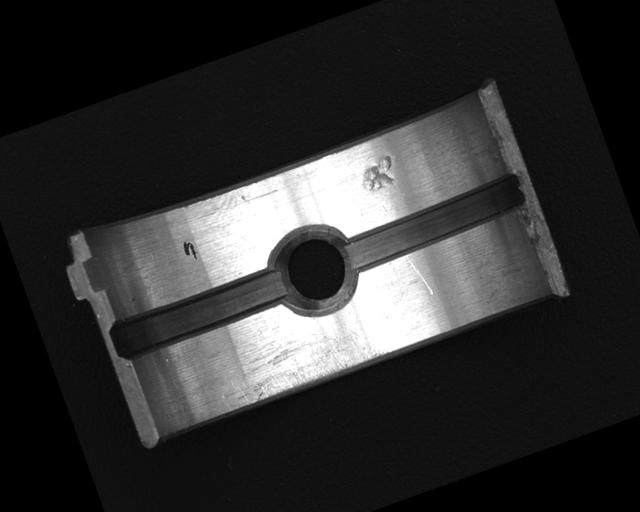blot: (180, 236, 200, 264)
bruise: (354, 151, 401, 196)
gap: (336, 168, 531, 276), (106, 260, 294, 362)
hole: (259, 214, 370, 326)
nick: (405, 251, 434, 299)
scratch: (207, 309, 390, 415)
